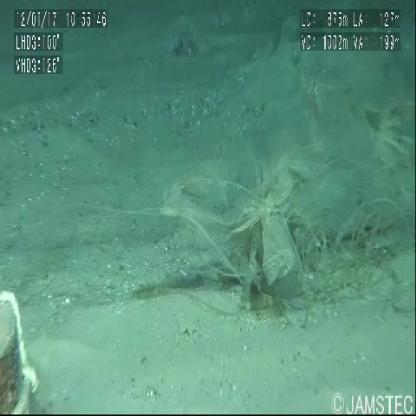Rác: (99, 149, 416, 342)
